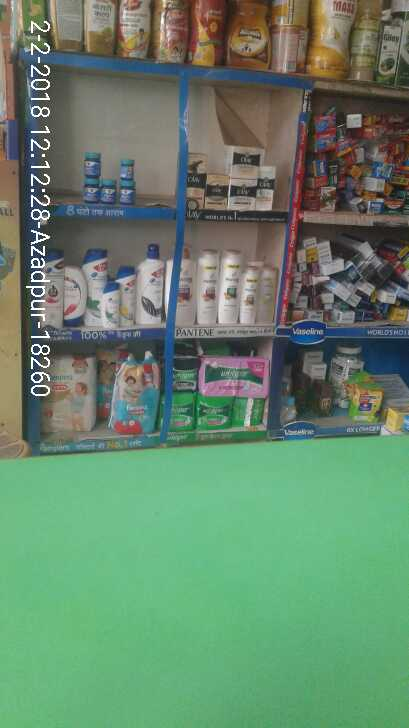vicks: (81, 146, 134, 207)
